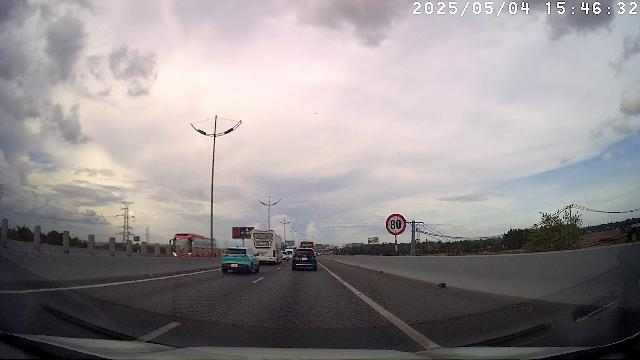127-toc-do-toi-da-80: (385, 213, 407, 235)
